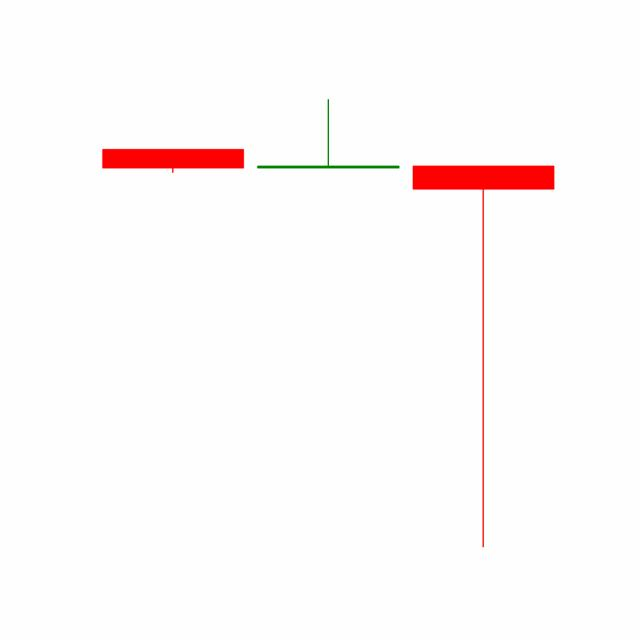Gravestone Doji: (249, 98, 406, 168)
